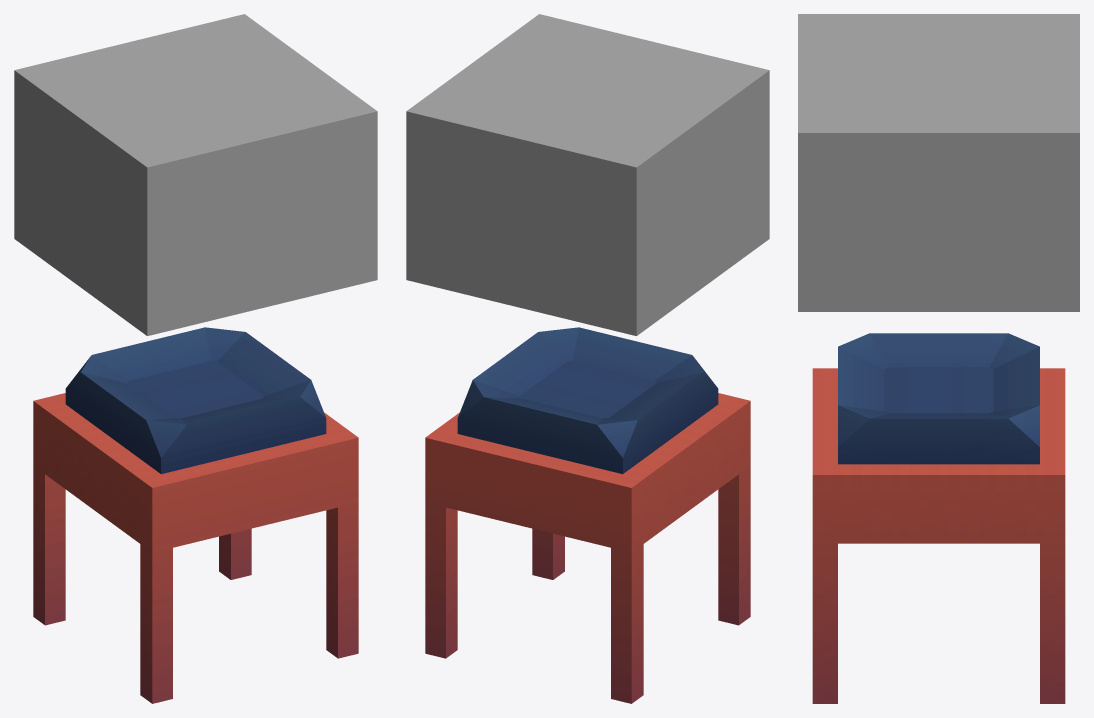
The model's file is display cabinet.fbx.
3 renders of one model, left to right at view 1: azimuth 30°, elevation 25°; view 2: azimuth 150°, elevation 25°; view 3: azimuth 270°, elevation 25°, orthographic. The views are drawn at different scales.
Parts seen in each view (by area): view 1: Glass, Wood, Pillow; view 2: Glass, Wood, Pillow; view 3: Glass, Wood, Pillow.
Part boxes in pixels (<box>): Glass: <box>14,14,377,335</box>; Wood: <box>33,393,358,703</box>; Pillow: <box>65,327,326,474</box>; Glass: <box>406,14,769,335</box>; Wood: <box>425,393,750,703</box>; Pillow: <box>457,327,718,474</box>; Glass: <box>798,14,1079,311</box>; Wood: <box>812,368,1065,703</box>; Pillow: <box>838,333,1039,464</box>.
Size of the model in its own units: 112 by 252 by 112.
3 materials, 2 textured.
